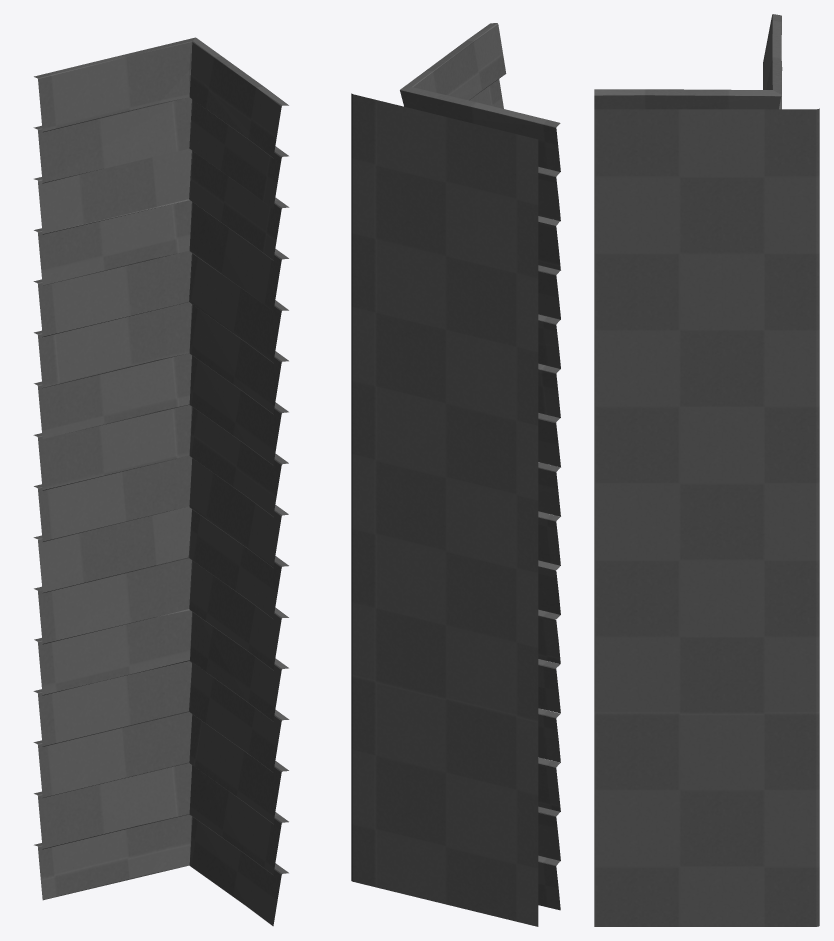
The model's file is SM_House_ExtWall_InnerCorner_A2.glb.
The picture shows the model from 3 angles, left to right: view 1: azimuth 30°, elevation 25°; view 2: azimuth 150°, elevation 25°; view 3: azimuth 270°, elevation 25°; orthographic projection. The views are drawn at different scales.
Visible parts, largest first — view 1: SM_House_ExtWall_InnerCorner_A2; view 2: SM_House_ExtWall_InnerCorner_A2; view 3: SM_House_ExtWall_InnerCorner_A2.
Boxes of the visible parts, bbox=[...] form: SM_House_ExtWall_InnerCorner_A2: bbox=[33, 37, 289, 926]; SM_House_ExtWall_InnerCorner_A2: bbox=[351, 23, 560, 926]; SM_House_ExtWall_InnerCorner_A2: bbox=[594, 14, 819, 926].
Bounding box in the file's own units: 80.07 × 321 × 80.01.
Materials: 1 (1 with a texture image).
